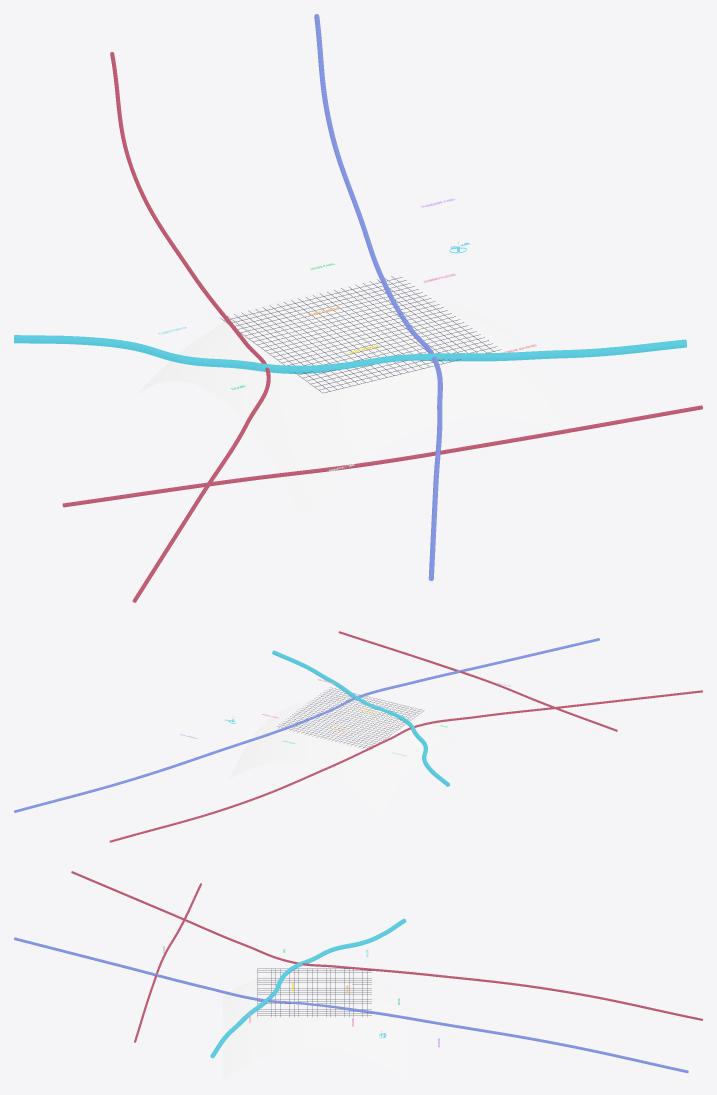
File: atx_stylized_map.glb
3 views of the same model, one above another, from view 1: azimuth 30°, elevation 25°; view 2: azimuth 150°, elevation 25°; view 3: azimuth 270°, elevation 25° (orthographic). The views are drawn at different scales.
Parts seen in each view (by area): view 1: ATX_Ground, ATX_Colorado_River, ATX_Highway_I35, ATX_Highway_290, ATX_Highway_MoPac; view 2: ATX_Ground, ATX_Highway_I35, ATX_Highway_MoPac, ATX_Colorado_River, ATX_Highway_290; view 3: ATX_Ground, ATX_Highway_I35, ATX_Highway_MoPac, ATX_Colorado_River, ATX_Highway_290.
Part boxes in pixels (<box>): ATX_Ground: <box>136,289,585,516</box>; ATX_Colorado_River: <box>14,335,686,373</box>; ATX_Highway_I35: <box>314,14,442,580</box>; ATX_Highway_290: <box>62,405,702,507</box>; ATX_Highway_MoPac: <box>110,52,270,602</box>; ATX_Ground: <box>229,695,468,816</box>; ATX_Highway_I35: <box>14,638,599,812</box>; ATX_Highway_MoPac: <box>109,690,702,842</box>; ATX_Colorado_River: <box>272,650,449,786</box>; ATX_Highway_290: <box>338,631,617,731</box>; ATX_Ground: <box>223,969,406,1080</box>; ATX_Highway_I35: <box>14,937,688,1073</box>; ATX_Highway_MoPac: <box>71,871,702,1020</box>; ATX_Colorado_River: <box>210,918,406,1058</box>; ATX_Highway_290: <box>134,883,201,1042</box>.
Size of the model in its own units: 82.86 by 10.52 by 120.
